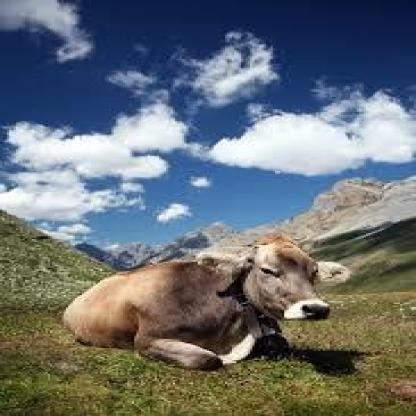cow: (61, 236, 350, 368)
